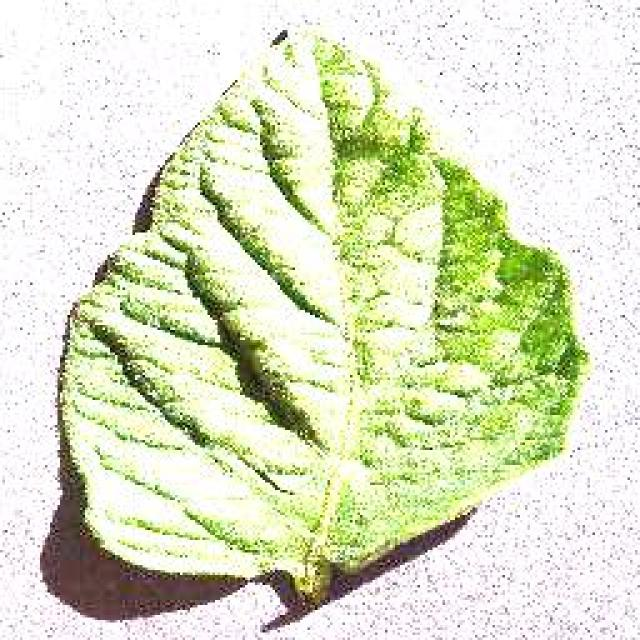Tomato___healthy: (58, 27, 591, 610)
